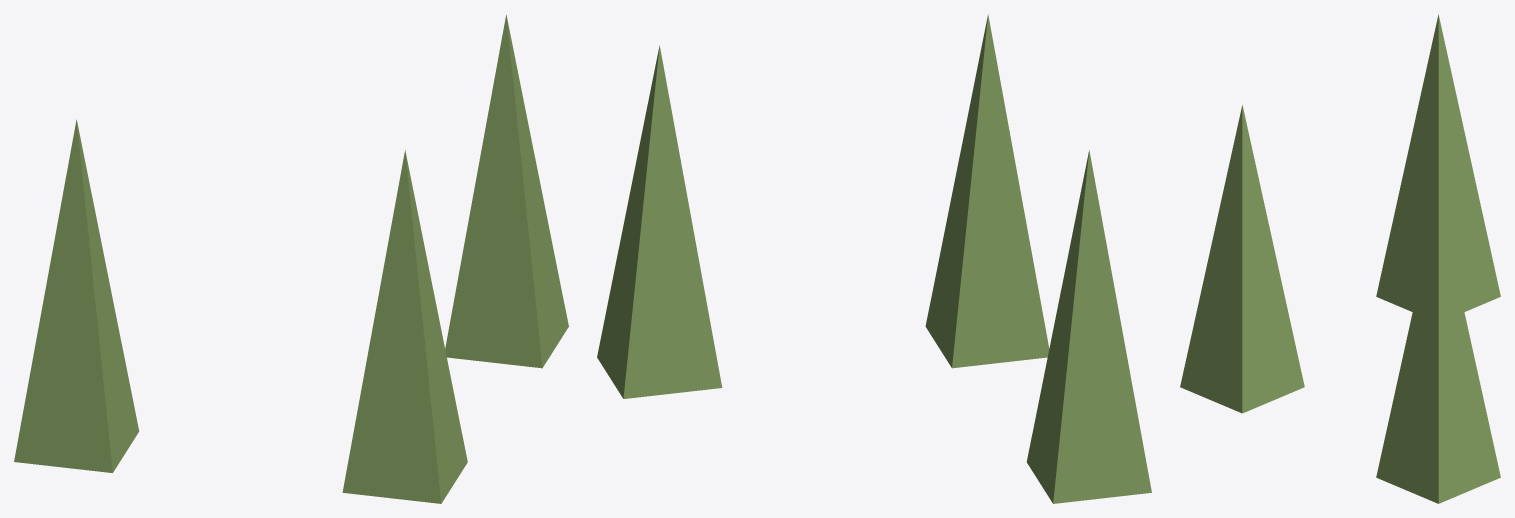
Rendered from grass_tuft_01.glb.
3 views of the same model, side by side, from view 1: azimuth 30°, elevation 25°; view 2: azimuth 150°, elevation 25°; view 3: azimuth 270°, elevation 25° (orthographic). The views are drawn at different scales.
Size of the model in its own units: 0.62 by 0.35 by 0.36.
